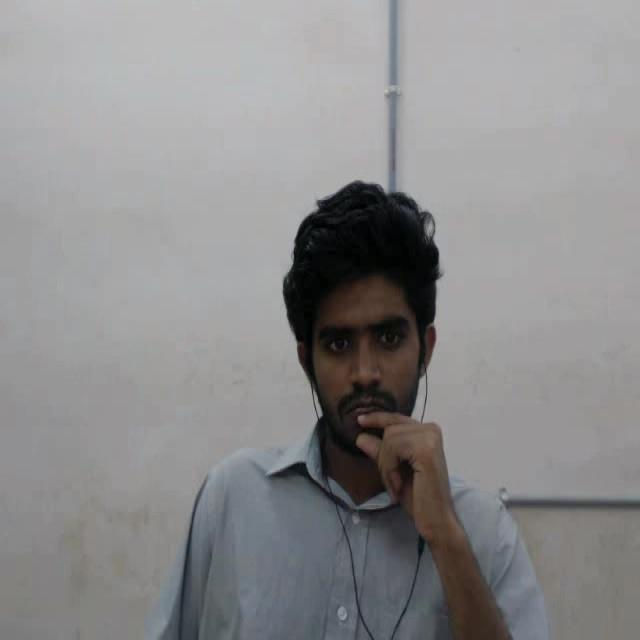Bored: (264, 160, 460, 487)
